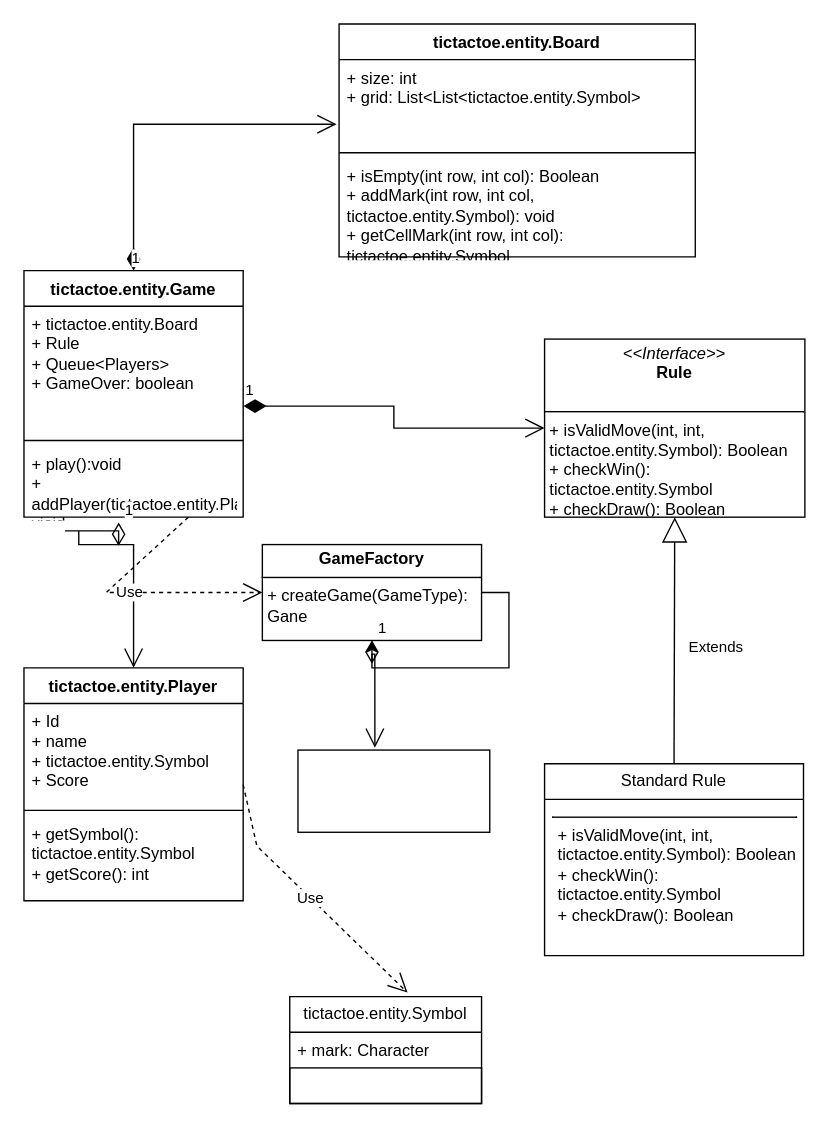
Image size: 829x1132. Some labels were removed from this diagram. The centre of each missing label's shape, as x and y in pixels:
"+ getMark(): Character" belongs at (385,1085).
"GameType +Standard" belongs at (393,790).
